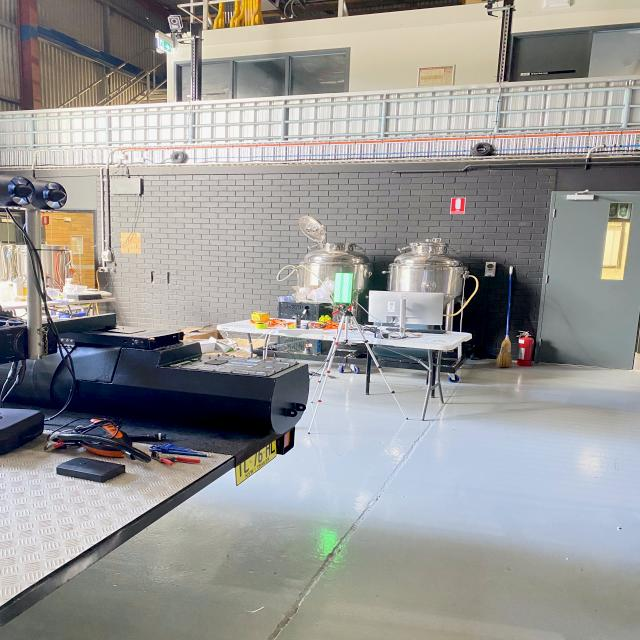matrix: (333, 269, 354, 306)
